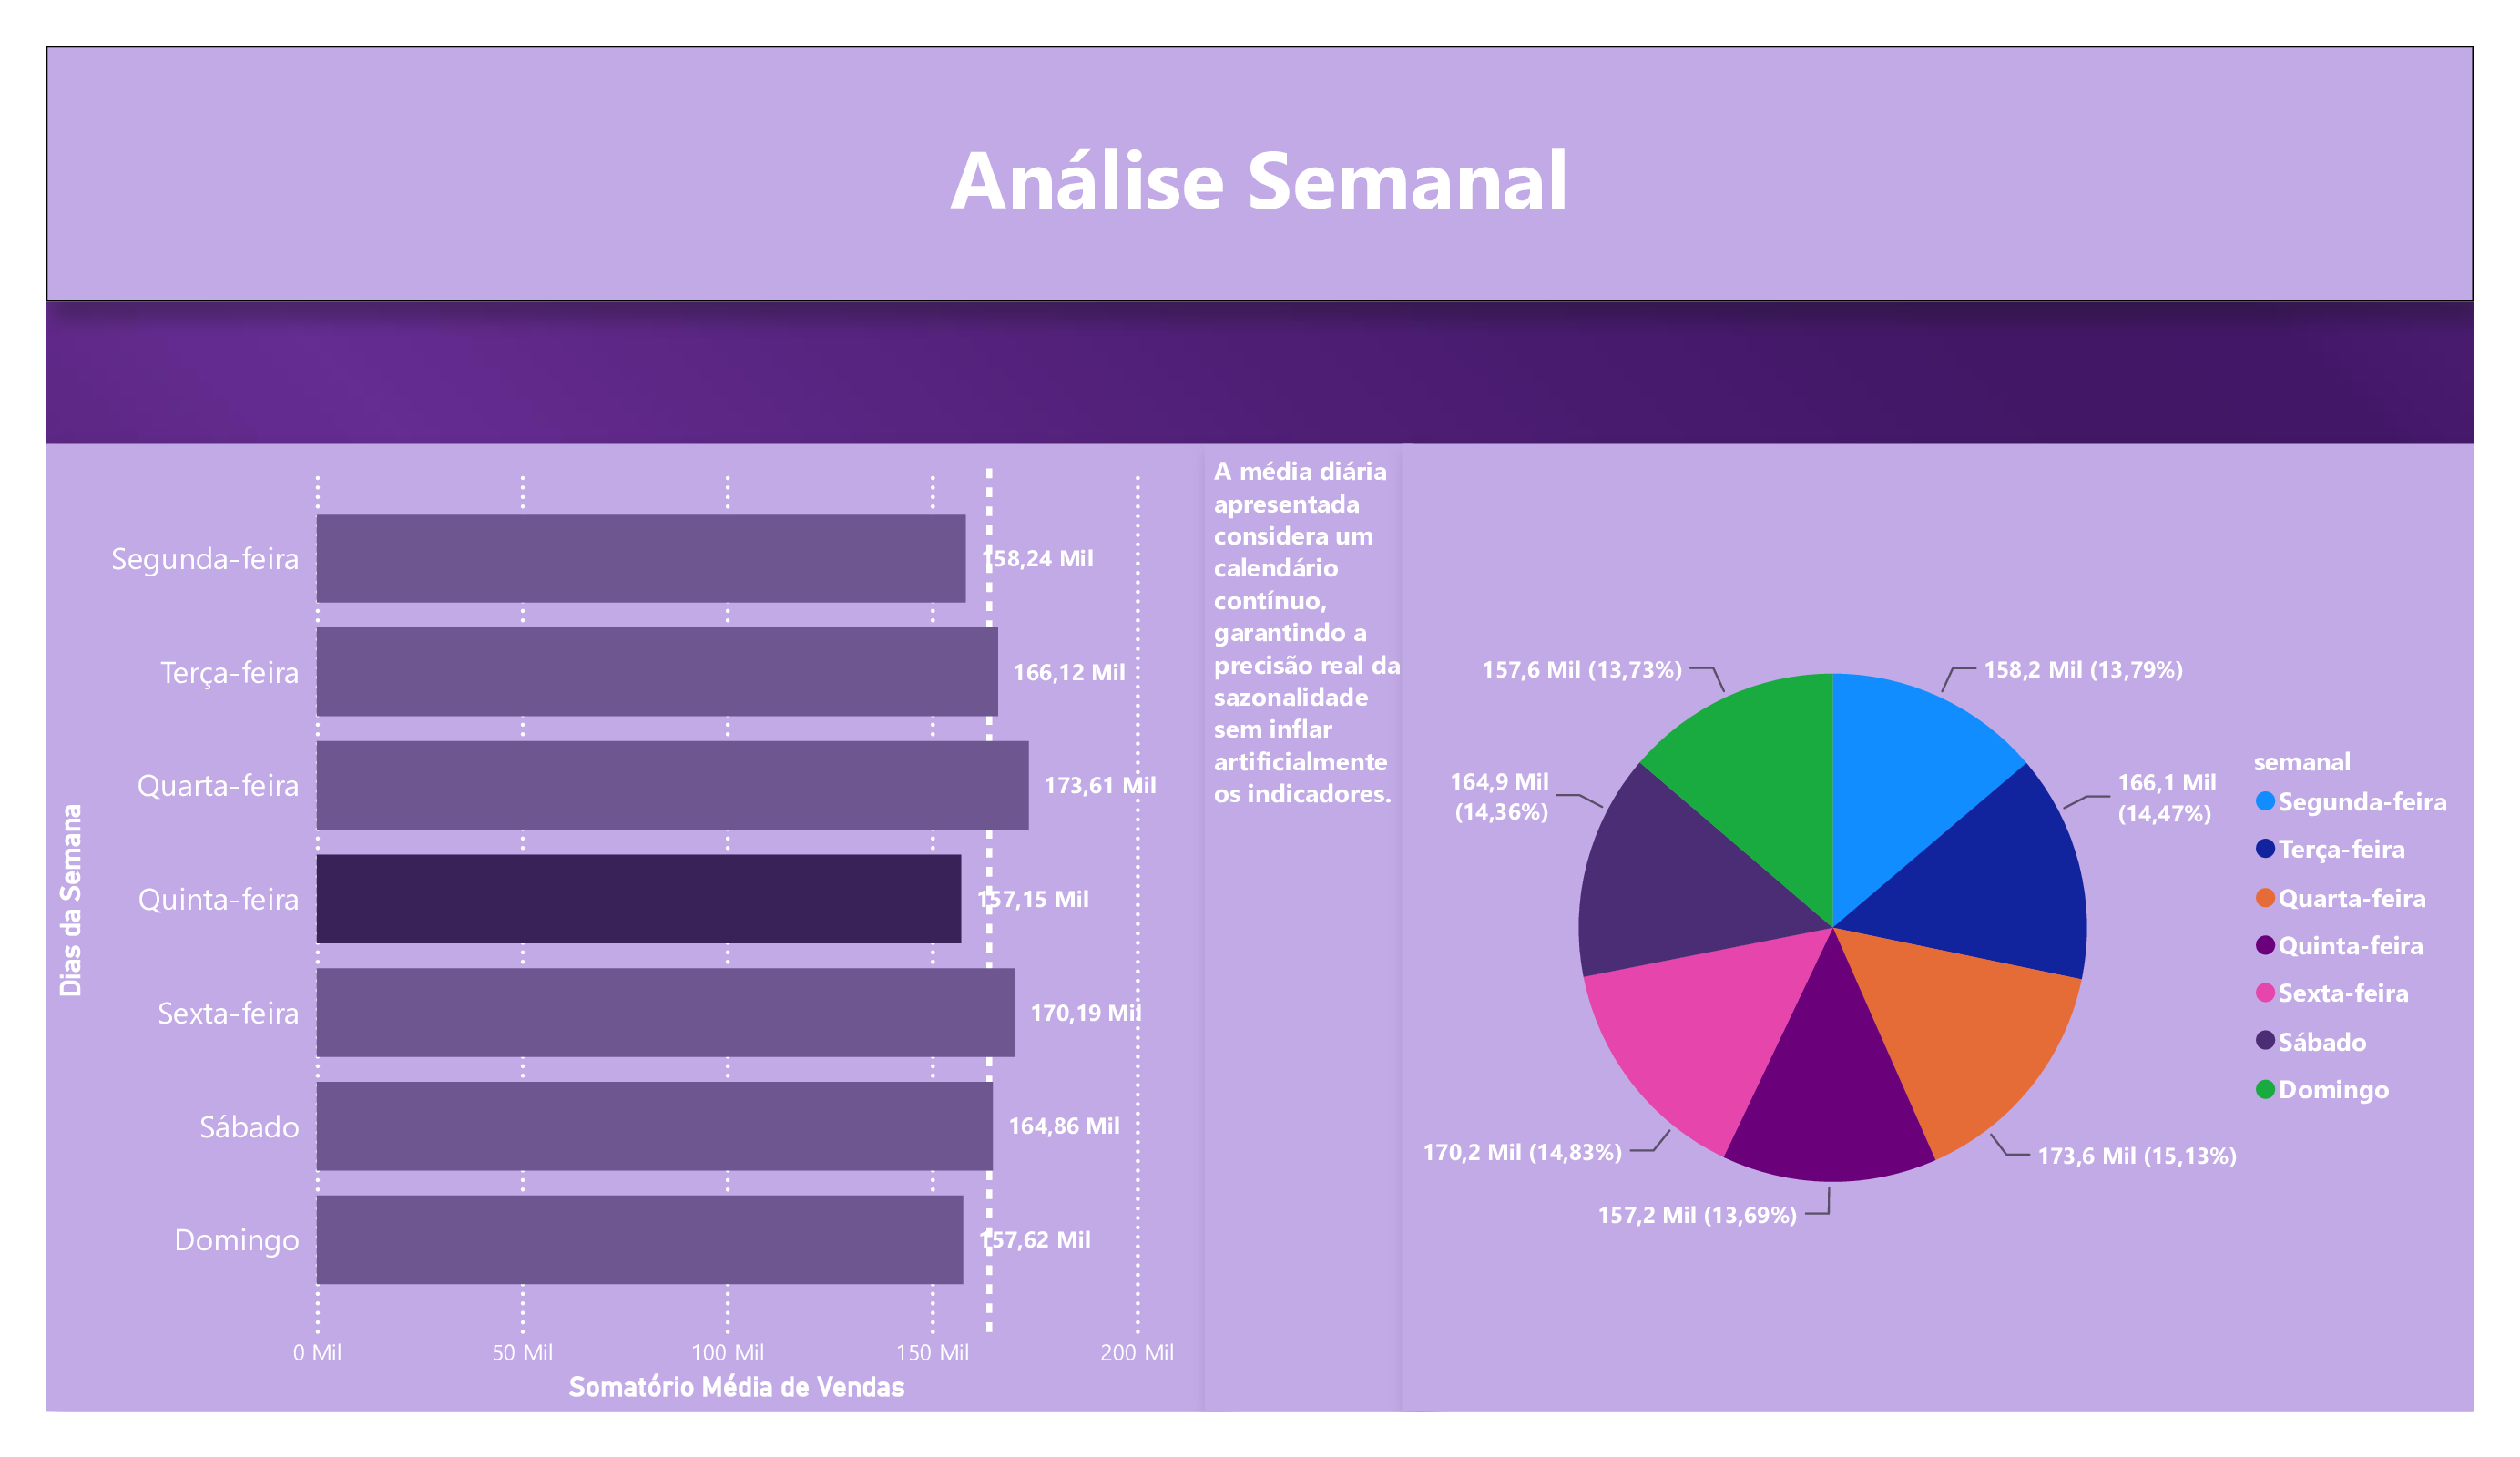

This screenshot's page, from the dashboard's own definition file:
{"tool":"powerbi","page":{"name":"Página 3","canvas":[1280,720],"ordinal":2},"visuals":[{"type":"clusteredBarChart","title":"Comportamento de Compra Semanal","fields":{"Category":["Consulta1.semanal"],"Y":["Sum(Consulta1.media_vendas)"]},"box":[0,209.6,610.7,510.4],"z":0},{"type":"textbox","box":[610.7,209.6,110.1,510.4],"z":1000},{"type":"pieChart","title":"Compra Semanal %","fields":{"Category":["Consulta1.semanal"],"Y":["Sum(Consulta1.media_vendas)"]},"box":[714.6,209.6,565.1,510.4],"z":2000},{"type":"textbox","box":[0,0,1279.7,135.2],"z":3000}]}

Visuals, with their boxes on the page's 1280x720 design canvas (x1, y1, x2, y2). These are canvas units, not pixel positions in the 2520x1457 screenshot, which may show the page scaled, cropped or inside an application window:
"Comportamento de Compra Semanal" clusteredBarChart: crop(0, 210, 611, 720)
textbox: crop(611, 210, 721, 720)
"Compra Semanal %" pieChart: crop(715, 210, 1280, 720)
textbox: crop(0, 0, 1280, 135)
